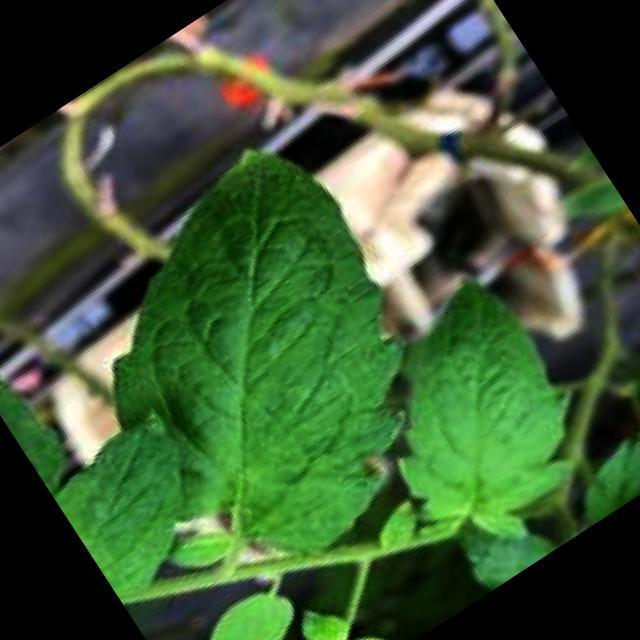Tomato healthy leaf: (110, 144, 402, 573), (383, 280, 571, 545), (49, 419, 181, 595), (203, 582, 298, 640)
